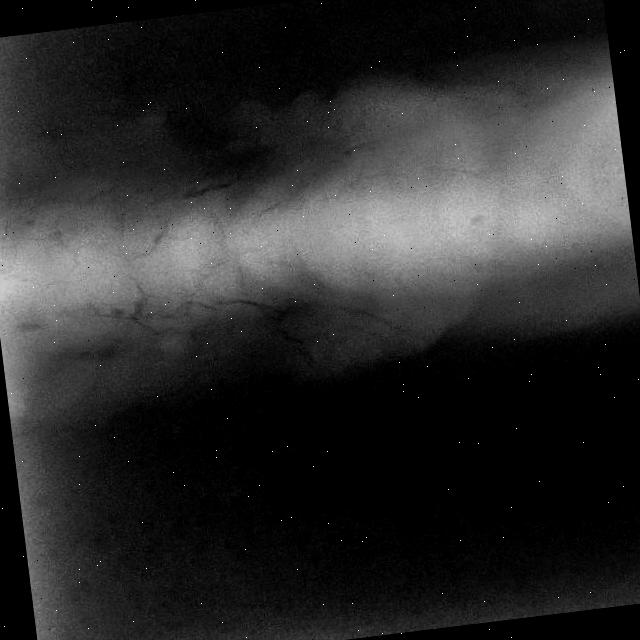Crack: (75, 257, 411, 380), (86, 133, 386, 250), (45, 206, 250, 284)
